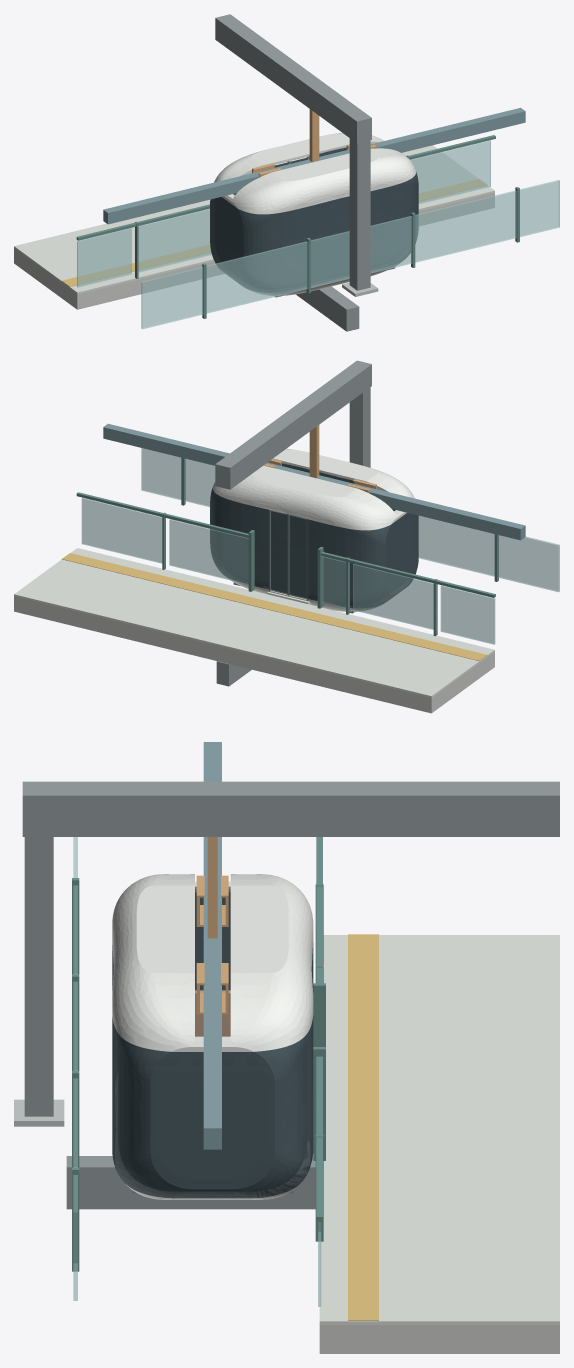
File: T1_Vehicle_Platform_Detail_V04.glb
The picture shows the model from 3 angles, top to bottom: view 1: azimuth 30°, elevation 25°; view 2: azimuth 150°, elevation 25°; view 3: azimuth 270°, elevation 25°; orthographic projection. The views are drawn at different scales.
Visible parts, largest first — view 1: STATION_OUTER_GUARD_0001, VEHICLE_WINDOWS_0001_car1_dark_wraparound, STATION_PLATFORM_FINISH_0001, VEHICLE_COWL_0001_car1_assumed_outer_cowl, STATION_FRAME_CROSSHEAD_0003, GUIDEWAY_STATION_SINGLE_0001_corridor1_rail1_proxy, STATION_RECESSED_SLAB_0001_assumed_station_slab, STATION_EDGE_GLASS_0015, STATION_EDGE_GLASS_0012, STATION_FRAME_POST_0005, STATION_EDGE_GLASS_0011, STATION_EDGE_WARNING_0001 (+5 smaller); view 2: STATION_PLATFORM_FINISH_0001, VEHICLE_WINDOWS_0001_car1_dark_wraparound, STATION_OUTER_GUARD_0001, VEHICLE_COWL_0001_car1_assumed_outer_cowl, STATION_RECESSED_SLAB_0001_assumed_station_slab, STATION_FRAME_CROSSHEAD_0003, GUIDEWAY_STATION_SINGLE_0001_corridor1_rail1_proxy, STATION_EDGE_GLASS_0015, STATION_EDGE_GLASS_0012, STATION_EDGE_WARNING_0001, STATION_EDGE_GLASS_0014, VEHICLE_DOOR_0001_car1_single_side_proxy (+8 smaller); view 3: STATION_PLATFORM_FINISH_0001, STATION_FRAME_CROSSHEAD_0003, VEHICLE_WINDOWS_0001_car1_dark_wraparound, VEHICLE_COWL_0001_car1_assumed_outer_cowl, STATION_EDGE_WARNING_0001, STATION_FRAME_POST_0005, STATION_RECESSED_SLAB_0001_assumed_station_slab, GUIDEWAY_STATION_SINGLE_0001_corridor1_rail1_proxy, STATION_TRANSVERSE_SUPPORT_0003, STATION_OUTER_GUARD_0001, STATION_EDGE_RAIL_0002, RWY_FIXED_INTERFACE_PROXY_0003_connection_pending_OEM (+10 smaller).
Part boxes in pixels (x1=…): STATION_OUTER_GUARD_0001: x1=141, y1=180, x2=559, y2=329; VEHICLE_WINDOWS_0001_car1_dark_wraparound: x1=210, y1=147, x2=418, y2=292; STATION_PLATFORM_FINISH_0001: x1=14, y1=145, x2=494, y2=294; VEHICLE_COWL_0001_car1_assumed_outer_cowl: x1=214, y1=132, x2=415, y2=214; STATION_FRAME_CROSSHEAD_0003: x1=215, y1=14, x2=371, y2=143; GUIDEWAY_STATION_SINGLE_0001_corridor1_rail1_proxy: x1=103, y1=107, x2=525, y2=224; STATION_RECESSED_SLAB_0001_assumed_station_slab: x1=14, y1=192, x2=494, y2=309; STATION_EDGE_GLASS_0015: x1=410, y1=140, x2=490, y2=204; STATION_EDGE_GLASS_0012: x1=138, y1=209, x2=211, y2=272; STATION_FRAME_POST_0005: x1=349, y1=138, x2=370, y2=290; STATION_EDGE_GLASS_0011: x1=77, y1=228, x2=131, y2=287; STATION_EDGE_WARNING_0001: x1=62, y1=179, x2=486, y2=286; STATION_PLATFORM_FINISH_0001: x1=14, y1=548, x2=494, y2=697; VEHICLE_WINDOWS_0001_car1_dark_wraparound: x1=210, y1=463, x2=418, y2=608; STATION_OUTER_GUARD_0001: x1=141, y1=448, x2=559, y2=592; VEHICLE_COWL_0001_car1_assumed_outer_cowl: x1=212, y1=448, x2=414, y2=530; STATION_RECESSED_SLAB_0001_assumed_station_slab: x1=14, y1=596, x2=494, y2=713; STATION_FRAME_CROSSHEAD_0003: x1=215, y1=360, x2=371, y2=489; GUIDEWAY_STATION_SINGLE_0001_corridor1_rail1_proxy: x1=103, y1=423, x2=525, y2=540; STATION_EDGE_GLASS_0015: x1=81, y1=497, x2=165, y2=563; STATION_EDGE_GLASS_0012: x1=353, y1=564, x2=436, y2=629; STATION_EDGE_WARNING_0001: x1=62, y1=553, x2=487, y2=660; STATION_EDGE_GLASS_0014: x1=169, y1=519, x2=248, y2=584; VEHICLE_DOOR_0001_car1_single_side_proxy: x1=271, y1=510, x2=306, y2=599; STATION_PLATFORM_FINISH_0001: x1=319, y1=935, x2=559, y2=1324; STATION_FRAME_CROSSHEAD_0003: x1=22, y1=781, x2=559, y2=836; VEHICLE_WINDOWS_0001_car1_dark_wraparound: x1=112, y1=892, x2=313, y2=1198; VEHICLE_COWL_0001_car1_assumed_outer_cowl: x1=112, y1=874, x2=313, y2=1051; STATION_EDGE_WARNING_0001: x1=348, y1=934, x2=378, y2=1320; STATION_FRAME_POST_0005: x1=24, y1=837, x2=53, y2=1116; STATION_RECESSED_SLAB_0001_assumed_station_slab: x1=319, y1=1325, x2=559, y2=1353; GUIDEWAY_STATION_SINGLE_0001_corridor1_rail1_proxy: x1=203, y1=742, x2=221, y2=1149; STATION_TRANSVERSE_SUPPORT_0003: x1=66, y1=1156, x2=315, y2=1209; STATION_OUTER_GUARD_0001: x1=73, y1=837, x2=77, y2=1300; STATION_EDGE_RAIL_0002: x1=316, y1=1056, x2=322, y2=1221; RWY_FIXED_INTERFACE_PROXY_0003_connection_pending_OEM: x1=207, y1=837, x2=217, y2=938.
Size of the model in its own units: 10 by 5.01 by 5.98.
